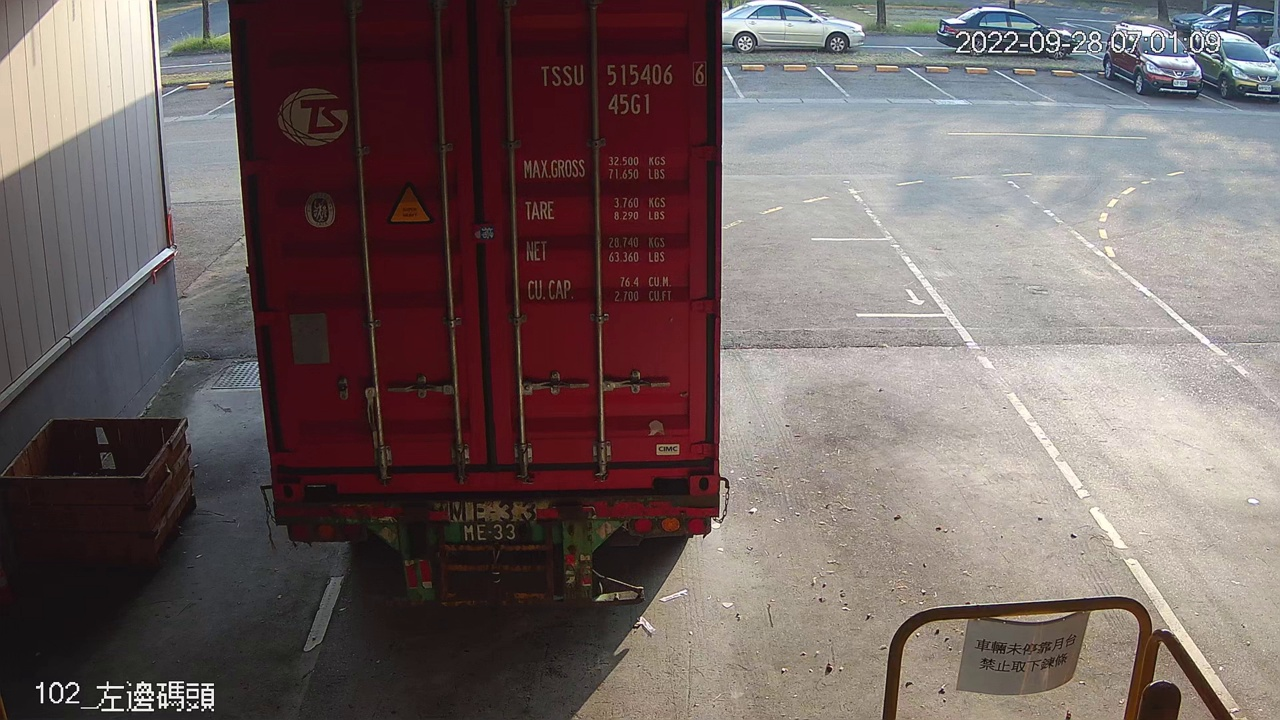container: (530, 56, 714, 119)
